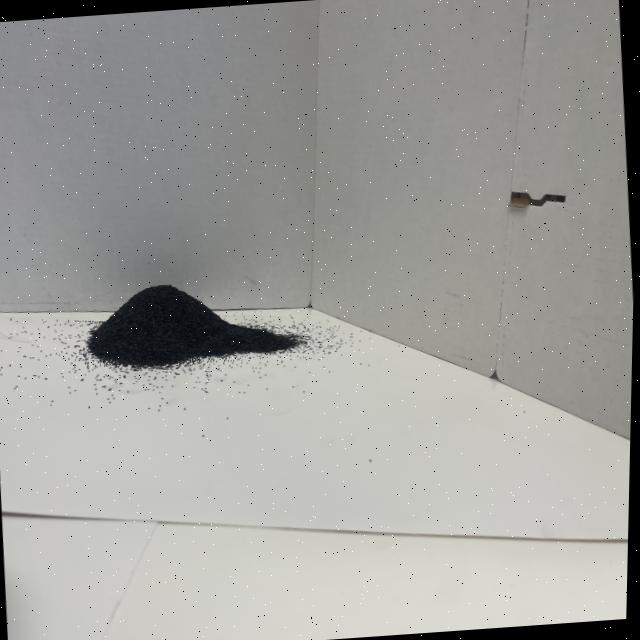Poppy Seeds: (75, 257, 316, 402)
